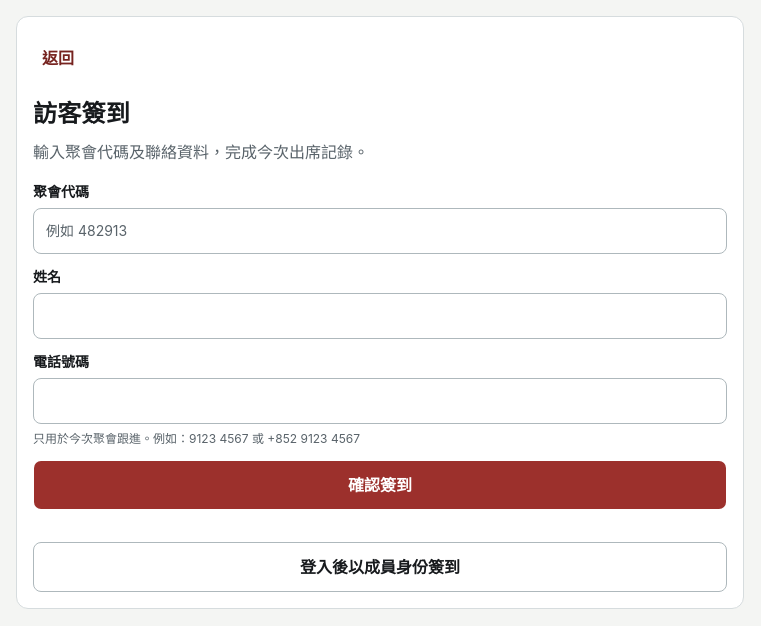
Test: AttendancePanel › AttendancePanel guest flow › duplicate is a neutral result without an attendance identifier
Step 1. Type "ATT1234" into the field labelled "聚會代碼" → (380, 231), box [33,208,727,254]
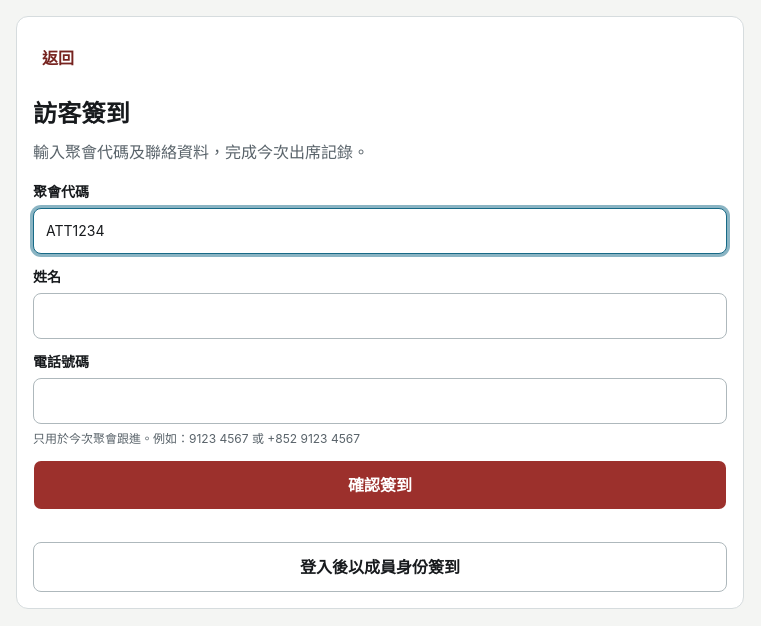
Step 2. Type "E2E訪客" into the field labelled "姓名" → (380, 316), box [33,293,727,339]
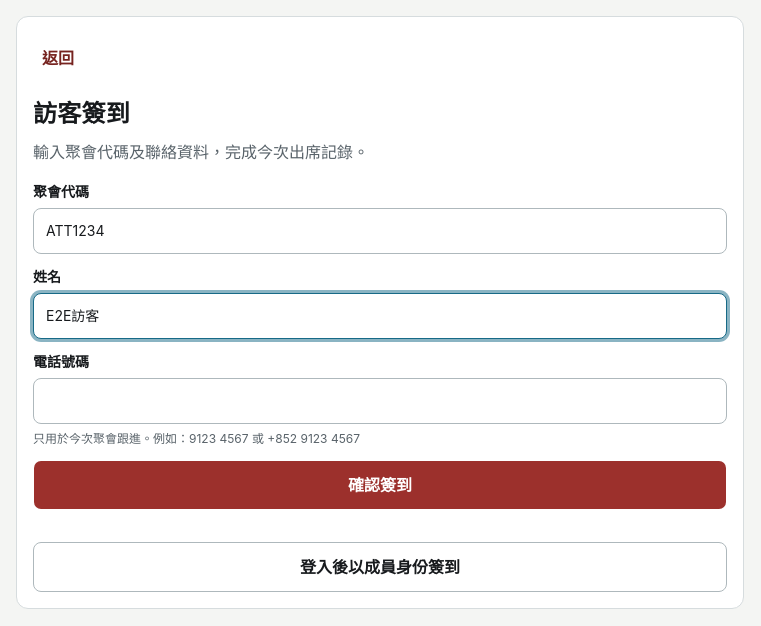
Step 3. Type "91234567" into the field labelled "電話號碼 只用於今次聚會跟進。例如：9123 4567 或 +852 9123 4567" → (380, 401), box [33,378,727,424]
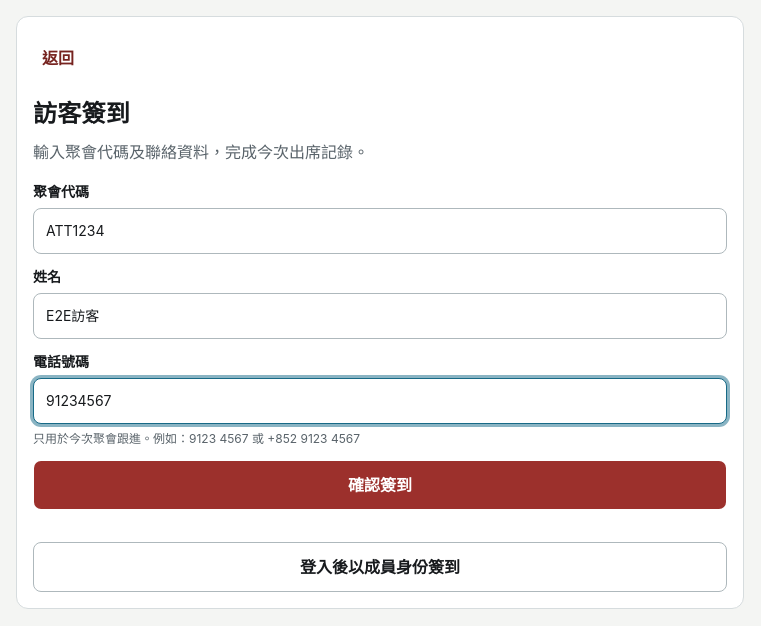
Step 4. Click the button "確認簽到" → (380, 485), box [33,460,727,510]
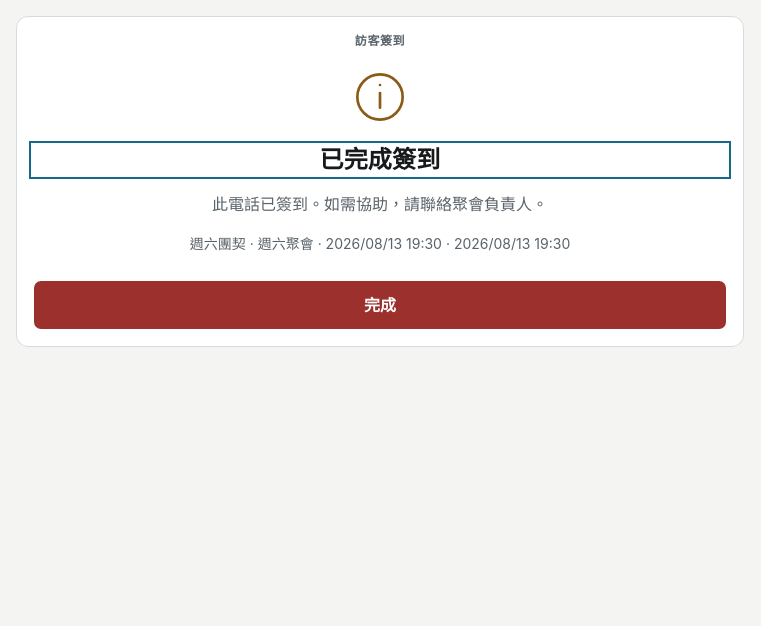
Expected: the icon with test id "guest-result-icon-duplicate" is shown, [348,65,412,129]
